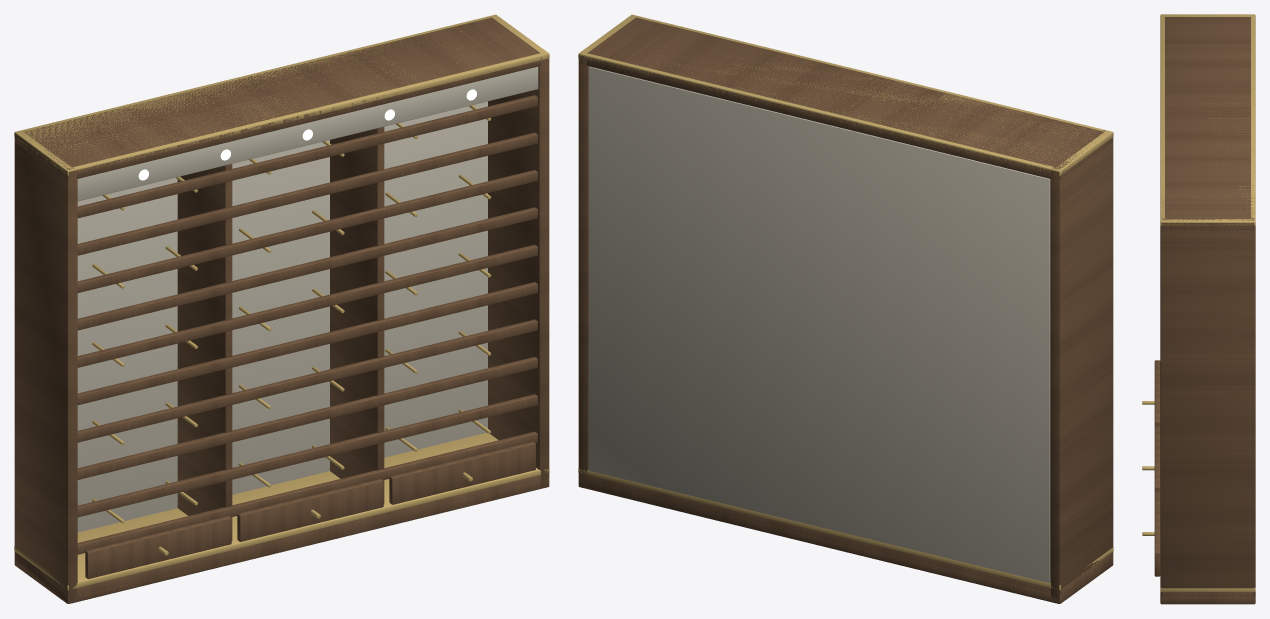
The model's file is pf_display_hat_wall_t5.glb.
The picture shows the model from 3 angles, left to right: view 1: azimuth 30°, elevation 25°; view 2: azimuth 150°, elevation 25°; view 3: azimuth 270°, elevation 25°; orthographic projection. The views are drawn at different scales.
Visible parts, largest first — view 1: Case_Back, Case_Left, Crown_Main, Case_Right, Millwork_Divider_01, Millwork_Divider_02, Header_Back, Crown_Trim, Plinth_Trim, Plinth_Base, Slat_09, Slat_03 (+13 smaller); view 2: Case_Back, Case_Left, Crown_Main, Crown_Trim, Plinth_Base, Case_Top, Case_Right, Case_Base, Plinth_Trim; view 3: Case_Right, Crown_Main, Crown_Trim, Case_Base, Case_Top, Drawer_Front_03, Drawer_Front_02, Plinth_Base, Drawer_Front_01, Plinth_Trim.
Boxes of the visible parts, <box> form: Case_Back: <box>77,101,487,532</box>; Case_Left: <box>14,130,77,603</box>; Crown_Main: <box>24,17,540,167</box>; Case_Right: <box>488,57,549,488</box>; Millwork_Divider_01: <box>177,164,232,541</box>; Millwork_Divider_02: <box>330,127,384,504</box>; Header_Back: <box>77,66,538,201</box>; Crown_Trim: <box>14,14,549,175</box>; Plinth_Trim: <box>14,433,549,590</box>; Plinth_Base: <box>15,474,547,595</box>; Slat_09: <box>77,132,537,255</box>; Slat_03: <box>77,357,537,479</box>; Case_Back: <box>588,66,1050,582</box>; Case_Left: <box>1050,130,1113,603</box>; Crown_Main: <box>587,17,1104,166</box>; Crown_Trim: <box>578,14,1113,175</box>; Plinth_Base: <box>580,473,1112,601</box>; Case_Top: <box>578,55,1113,180</box>; Case_Right: <box>578,55,588,488</box>; Case_Base: <box>578,478,1113,603</box>; Plinth_Trim: <box>578,468,1113,590</box>; Case_Right: <box>1160,218,1255,596</box>; Crown_Main: <box>1165,17,1250,218</box>; Crown_Trim: <box>1160,14,1255,226</box>; Case_Base: <box>1160,596,1255,604</box>; Case_Top: <box>1160,185,1255,230</box>; Drawer_Front_03: <box>1154,491,1160,576</box>; Drawer_Front_02: <box>1154,426,1160,491</box>; Plinth_Base: <box>1162,592,1253,598</box>; Drawer_Front_01: <box>1154,360,1160,425</box>; Plinth_Trim: <box>1160,587,1255,592</box>.
Bounding box in the file's own units: 3 × 2.58 × 0.69.
Materials: 5 (1 with a texture image).
